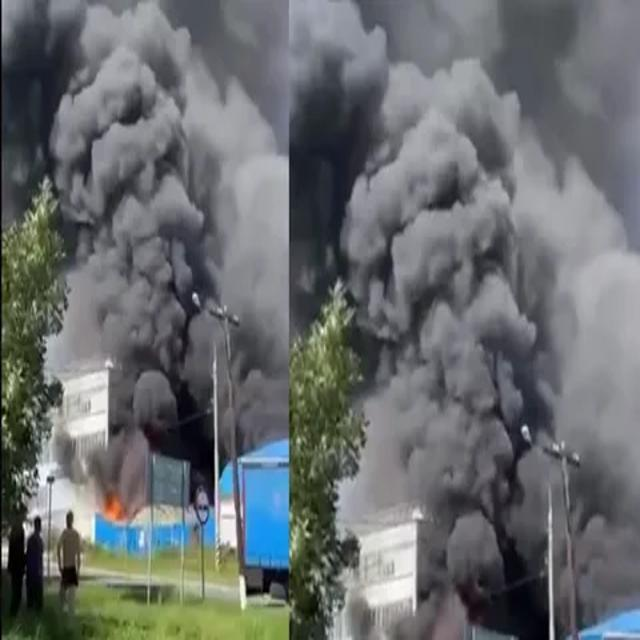Smoke: (290, 2, 636, 621), (1, 0, 285, 440)
